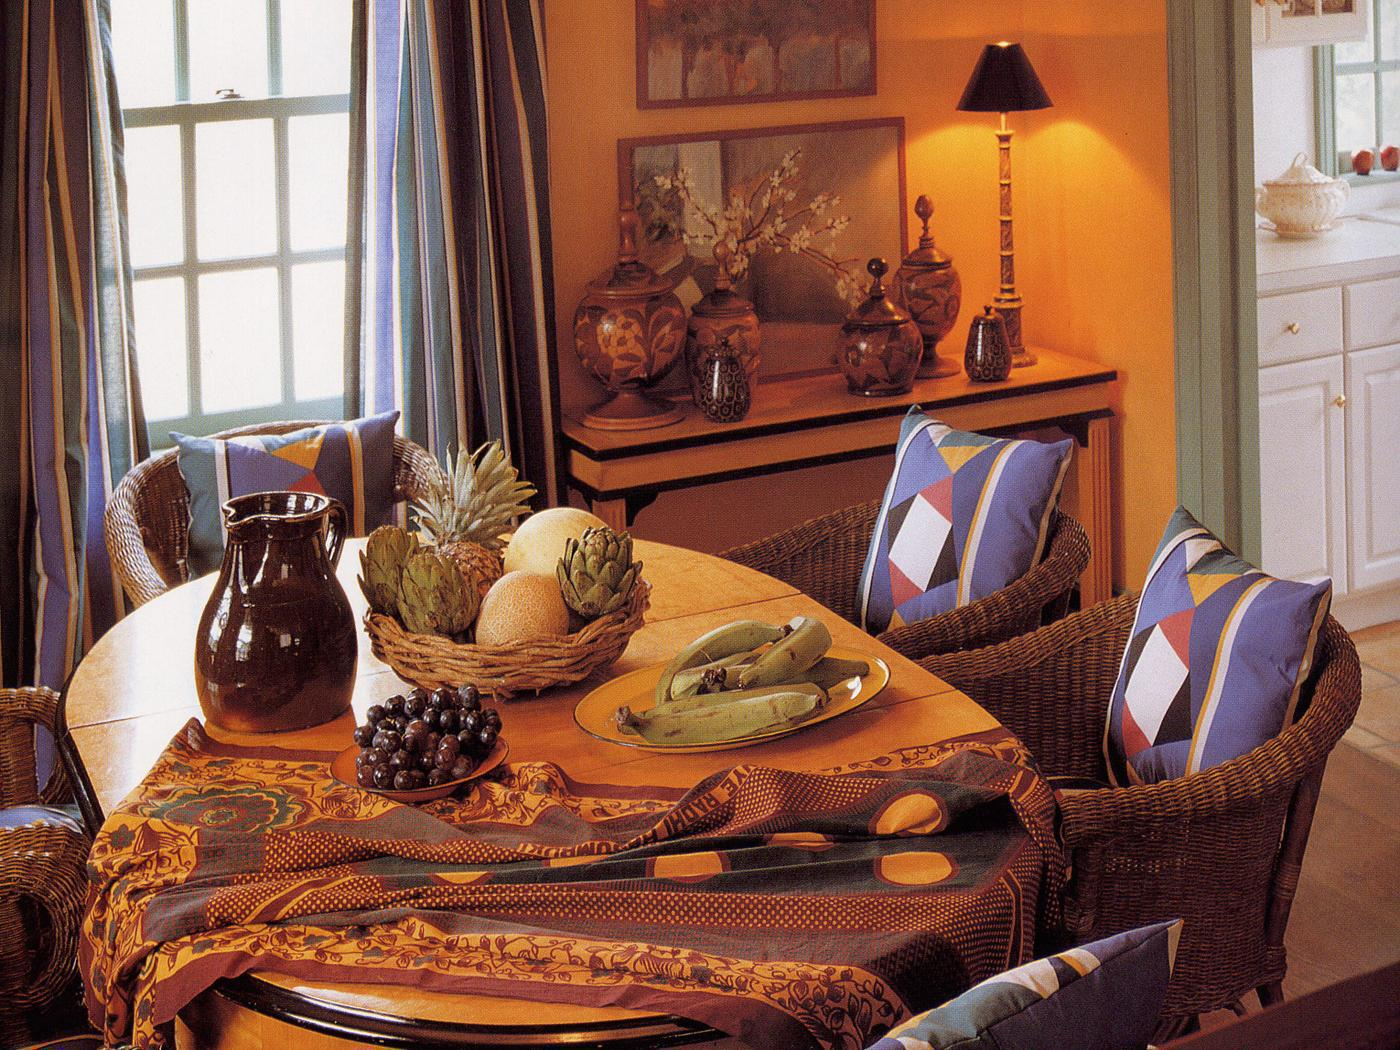Ventana: (90, 18, 395, 432)
